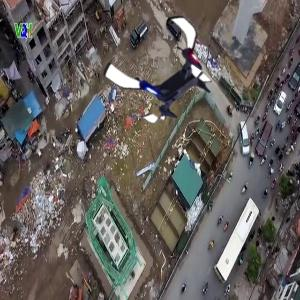drone: (111, 14, 223, 126)
